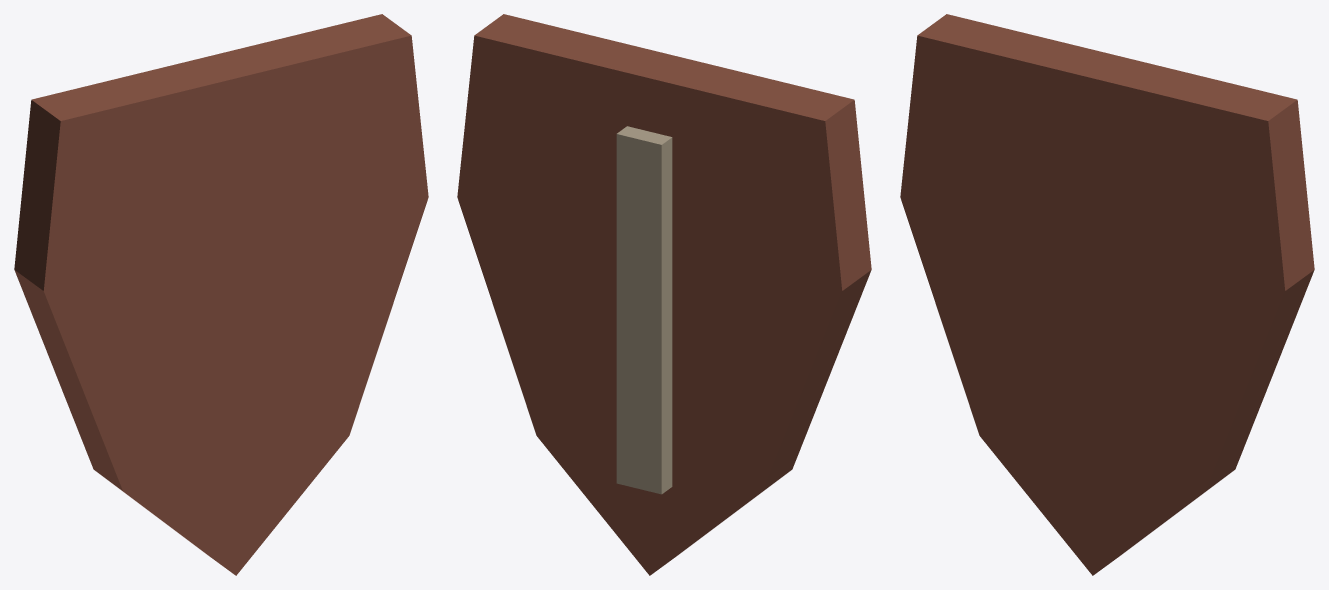
The model's file is Pawn_Shield.fbx.
3 renders of one model, left to right at view 1: azimuth 30°, elevation 25°; view 2: azimuth 150°, elevation 25°; view 3: azimuth 330°, elevation 25°, orthographic.
Parts seen in each view (by area): view 1: Pawn_Shield; view 2: Pawn_Shield; view 3: Pawn_Shield.
Boxes of the visible parts, <box> form: Pawn_Shield: <box>14,14,428,575</box>; Pawn_Shield: <box>457,14,871,575</box>; Pawn_Shield: <box>900,14,1314,575</box>.
Size of the model in its own units: 0.68 by 0.84 by 0.1225.
